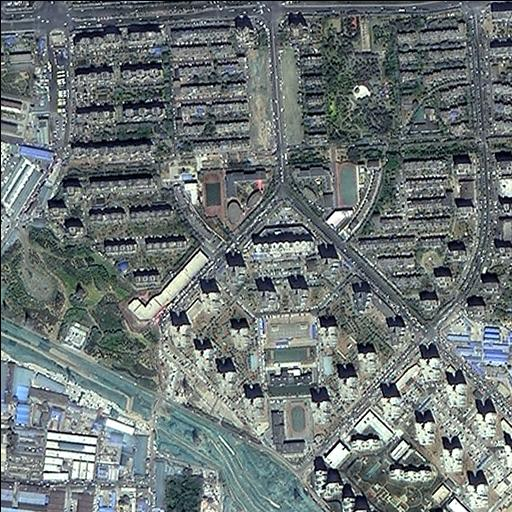school: (283, 146, 388, 237), (262, 342, 318, 456), (194, 162, 273, 237)
